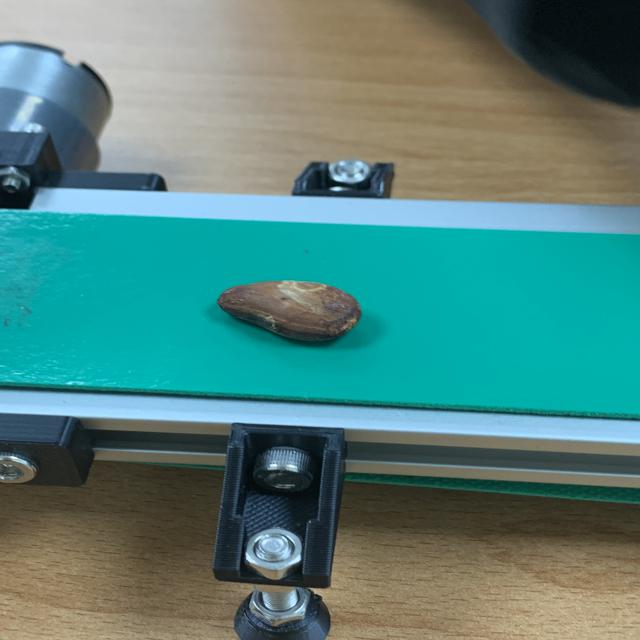Fine_cocoabeans: (105, 230, 491, 383)
